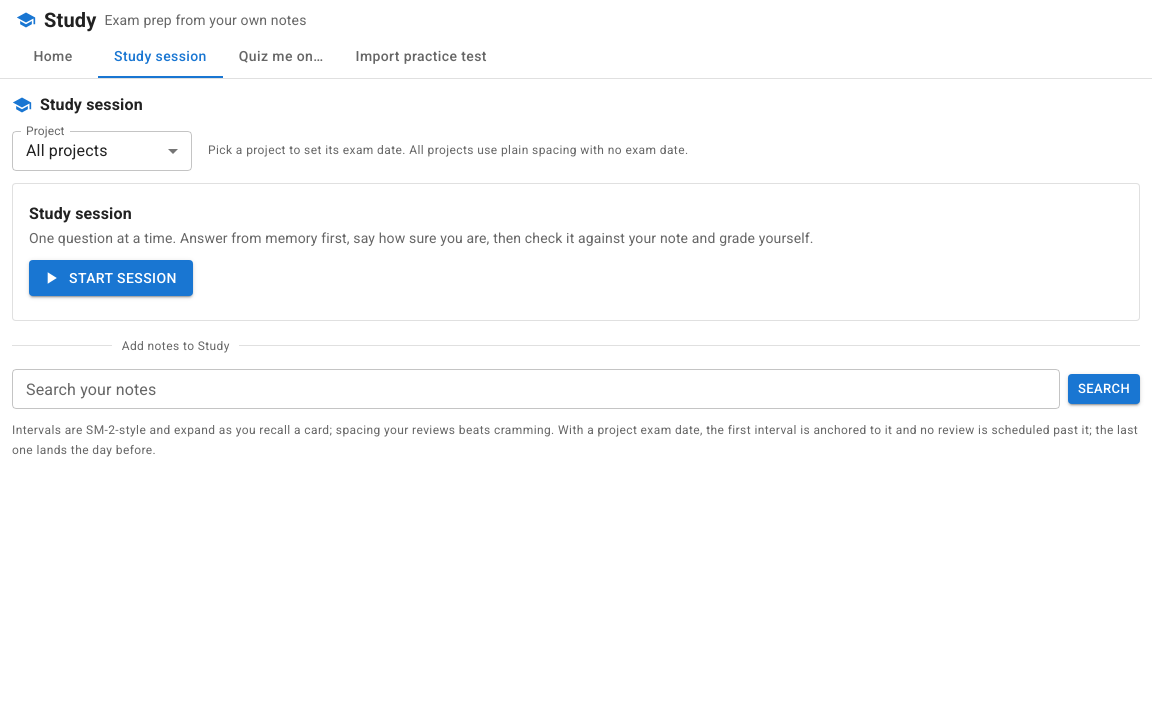
StudyTab (#260) › switches between the existing screens without a Back to Ask button
The image size is (1152, 720).
Step 1. Click the tab "Quiz me on…" → click(281, 57), box 223,36 -> 340,78
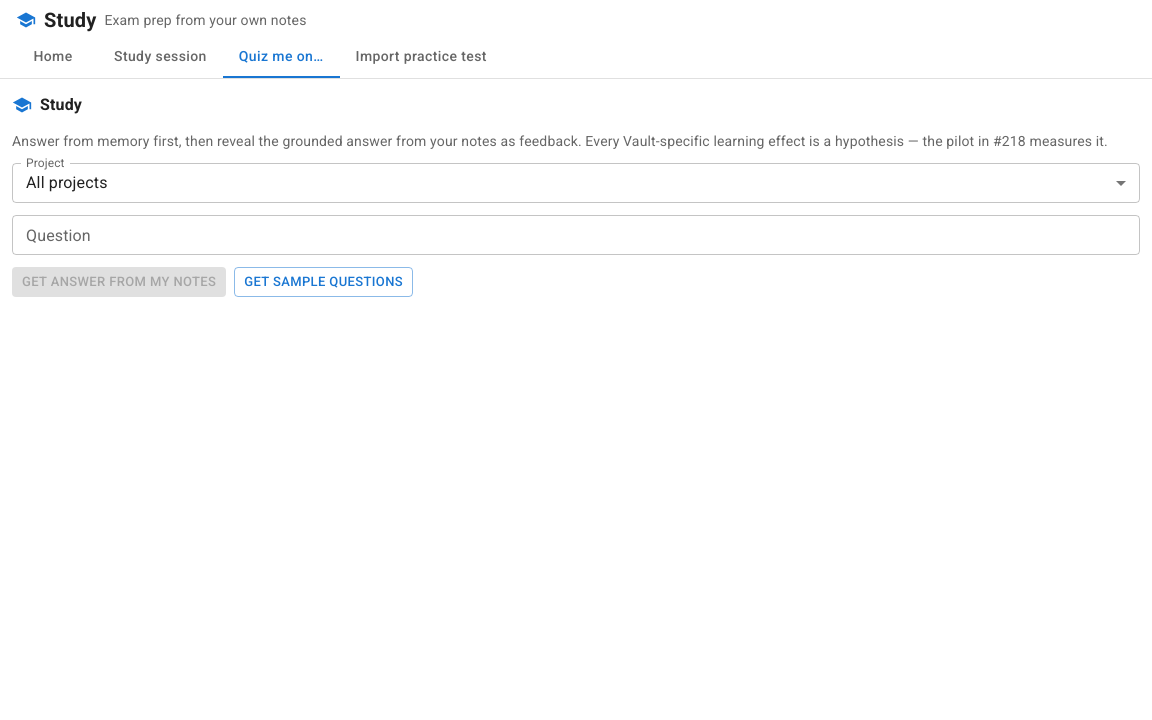
Now the field labelled "Question" is shown, box 12,214 -> 1140,254
Step 2. Click the tab "Import practice test" → click(421, 57), box 340,36 -> 503,78
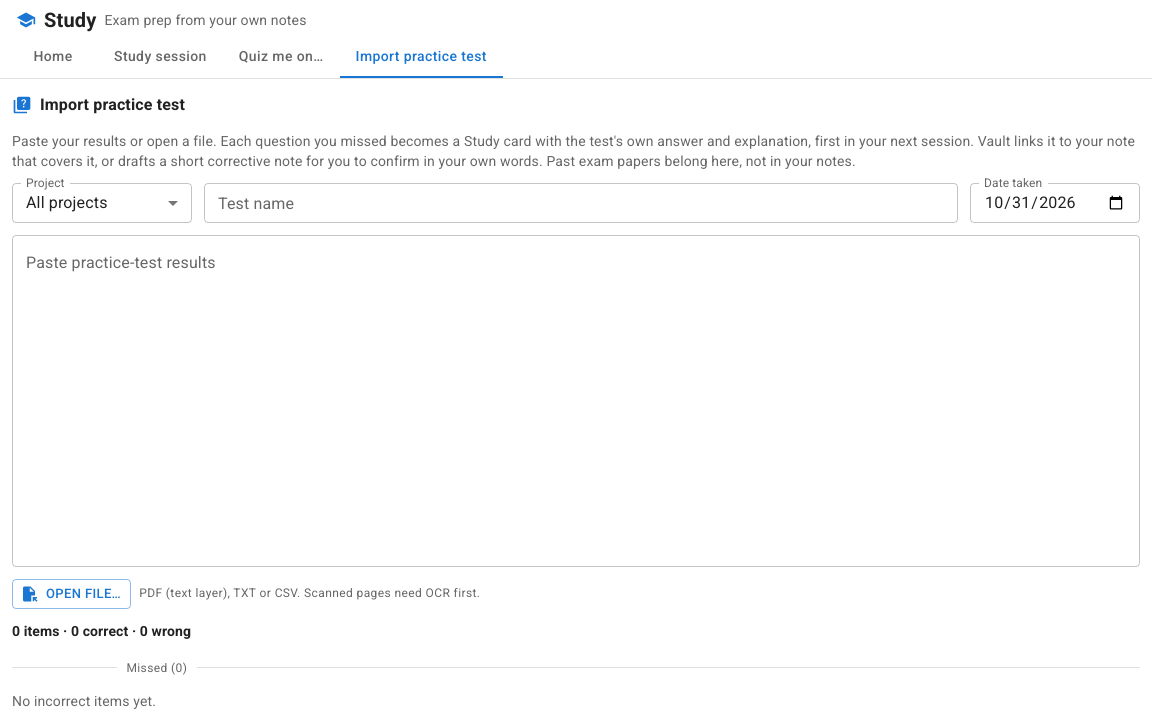
Now the heading "Import practice test" is shown, box 40,94 -> 185,114
